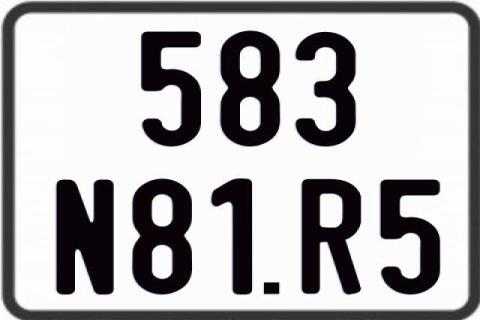0: (218, 29, 284, 148), (379, 177, 444, 295), (296, 32, 360, 150), (140, 30, 204, 146), (130, 176, 191, 292), (212, 177, 253, 296)
N: (54, 177, 117, 293)
R: (301, 179, 363, 299)
